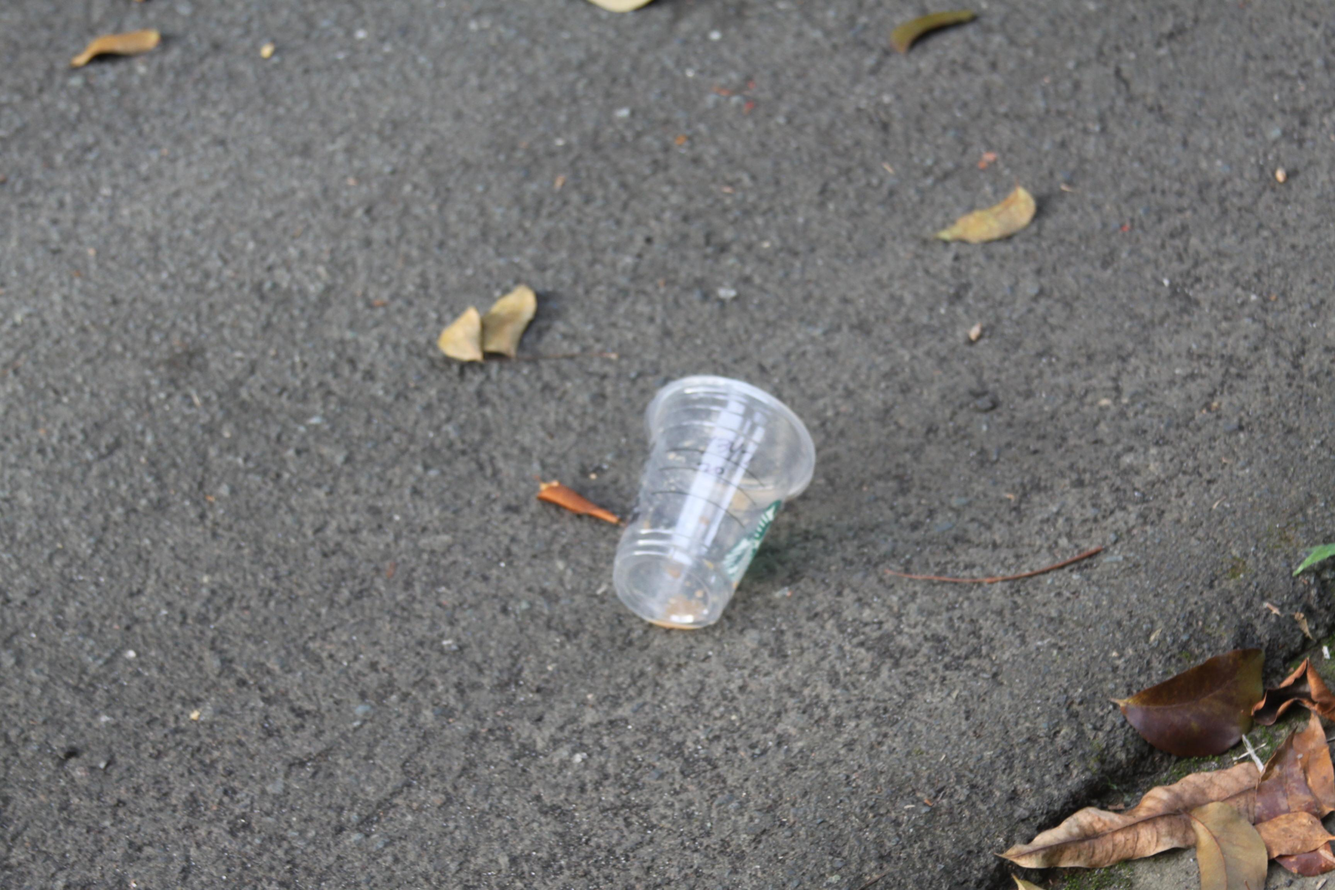Plastic: (613, 372, 819, 634)
